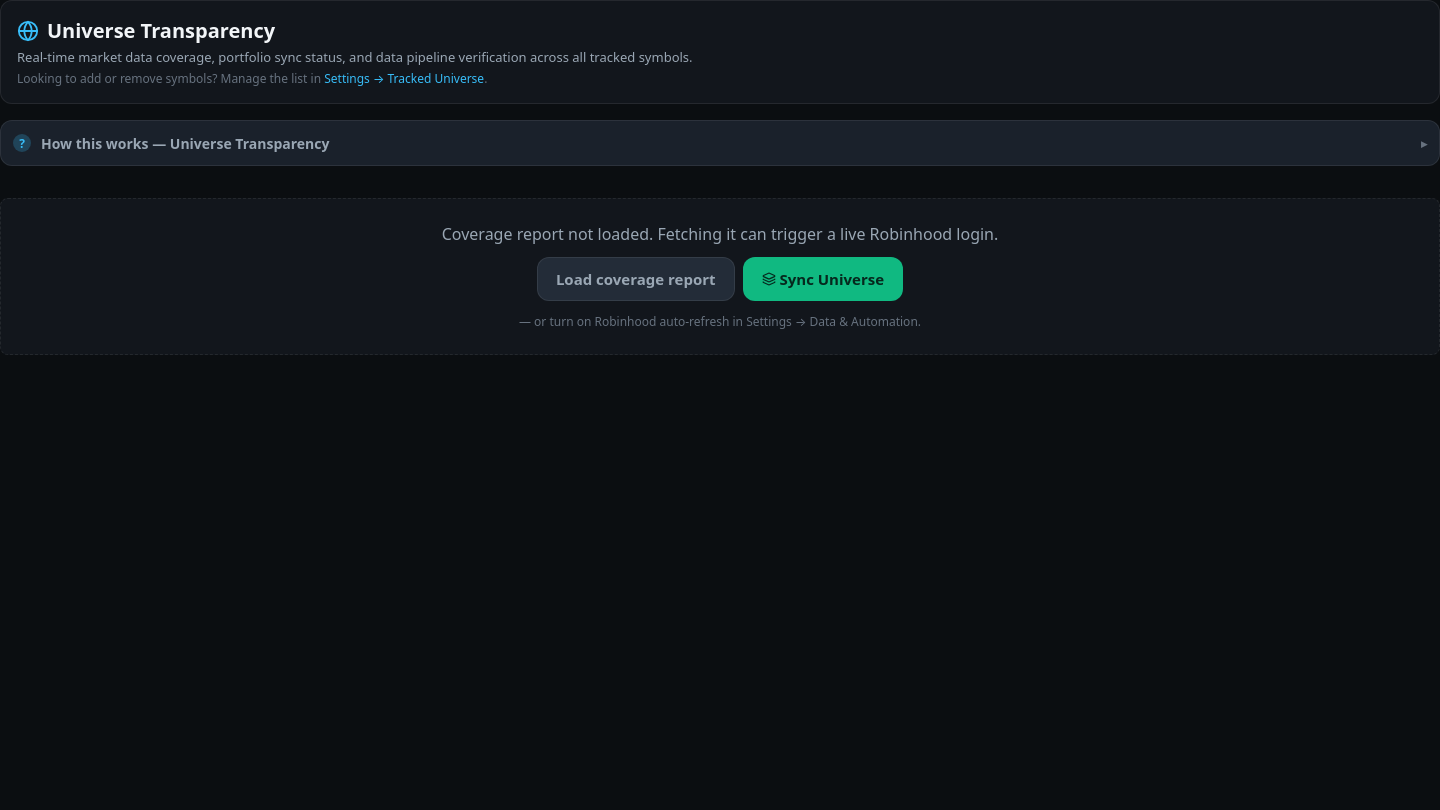
Scenario: UniverseTransparency — idle by default (Robinhood category gate) › clicking 'Load coverage report' fetches exactly once and renders the live view
Expected: the element with test id "universe-transparency-idle" is shown, [0, 198, 1439, 355]
Click the button with test id "universe-transparency-load" at [636, 279], box [537, 257, 734, 301]
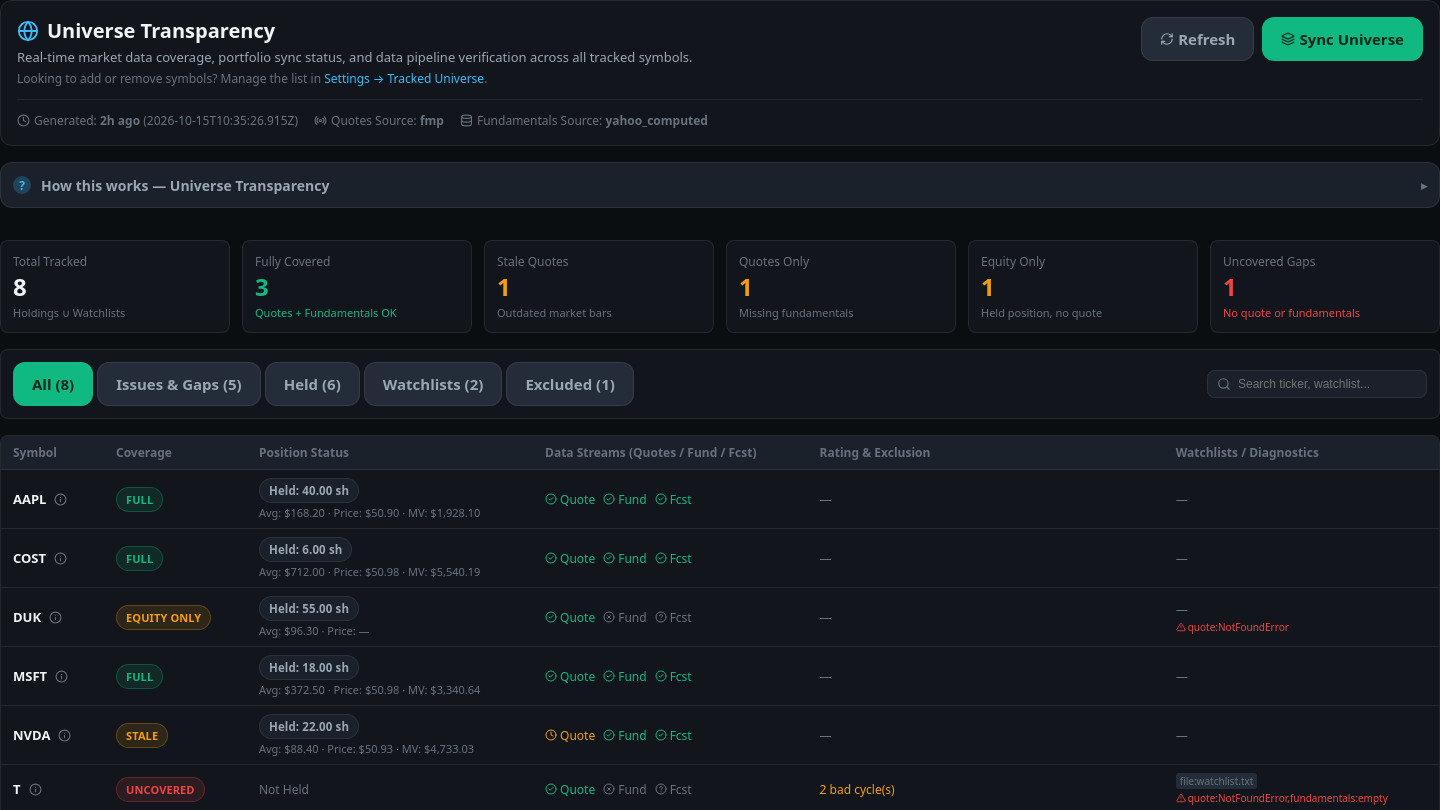
Expected: the row with test id "universe-row-AAPL" is shown, [1, 470, 1439, 528]
